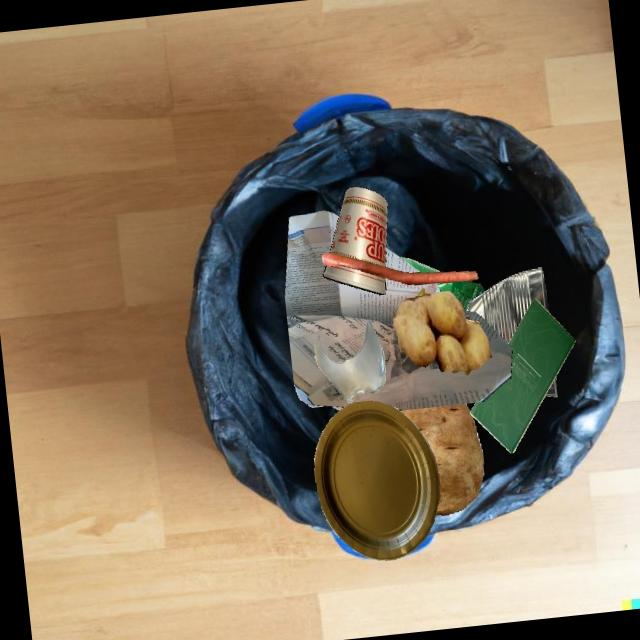biowaste: (398, 403, 483, 515), (392, 290, 490, 371), (403, 287, 467, 370), (321, 252, 478, 284)
glass: (314, 321, 385, 402)
metal: (468, 267, 549, 344)
paper: (284, 210, 512, 410), (314, 400, 439, 560), (470, 298, 575, 453)
plastic: (435, 280, 485, 311), (293, 379, 344, 406), (294, 384, 325, 407), (399, 257, 441, 272)
trash: (329, 186, 387, 267), (322, 265, 386, 294)
